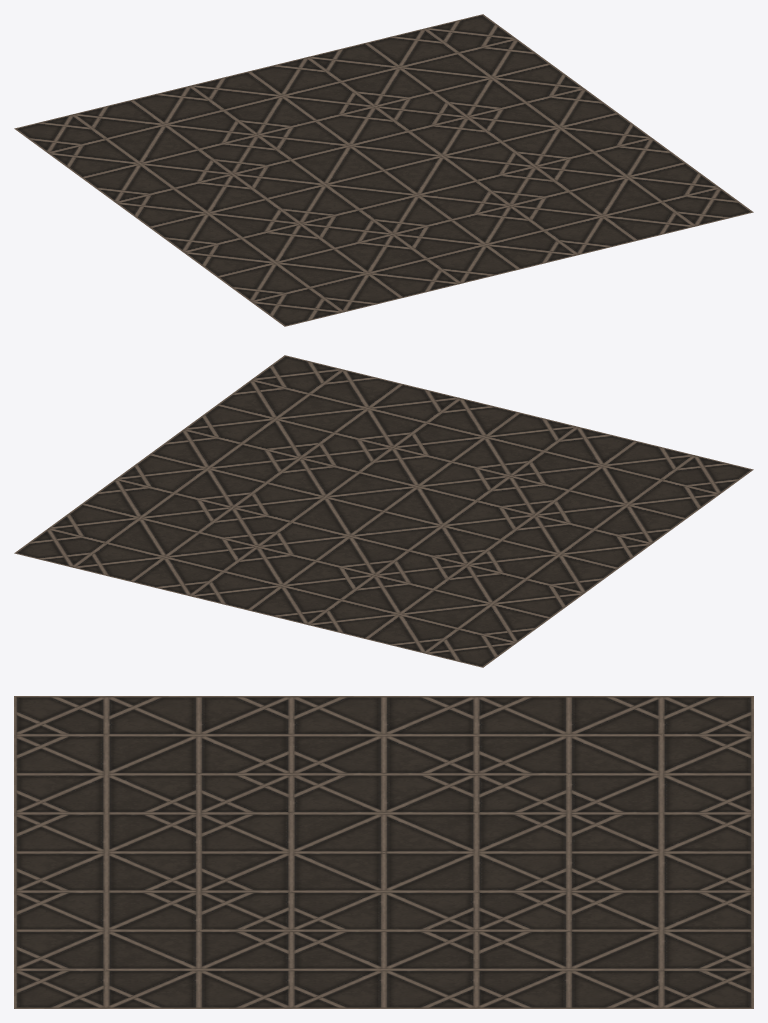
File: Ceiling_16m.fbx
3 renders of one model, top to bottom at view 1: azimuth 30°, elevation 25°; view 2: azimuth 150°, elevation 25°; view 3: azimuth 270°, elevation 25°, orthographic. The views are drawn at different scales.
Parts seen in each view (by area): view 1: Ceiling_16m; view 2: Ceiling_16m; view 3: Ceiling_16m.
Part boxes in pixels (x1,y1,x2,y2): Ceiling_16m: (14, 14, 753, 326); Ceiling_16m: (14, 355, 753, 667); Ceiling_16m: (14, 696, 753, 1008).
Size of the model in its own units: 1600 by 0 by 1600.
